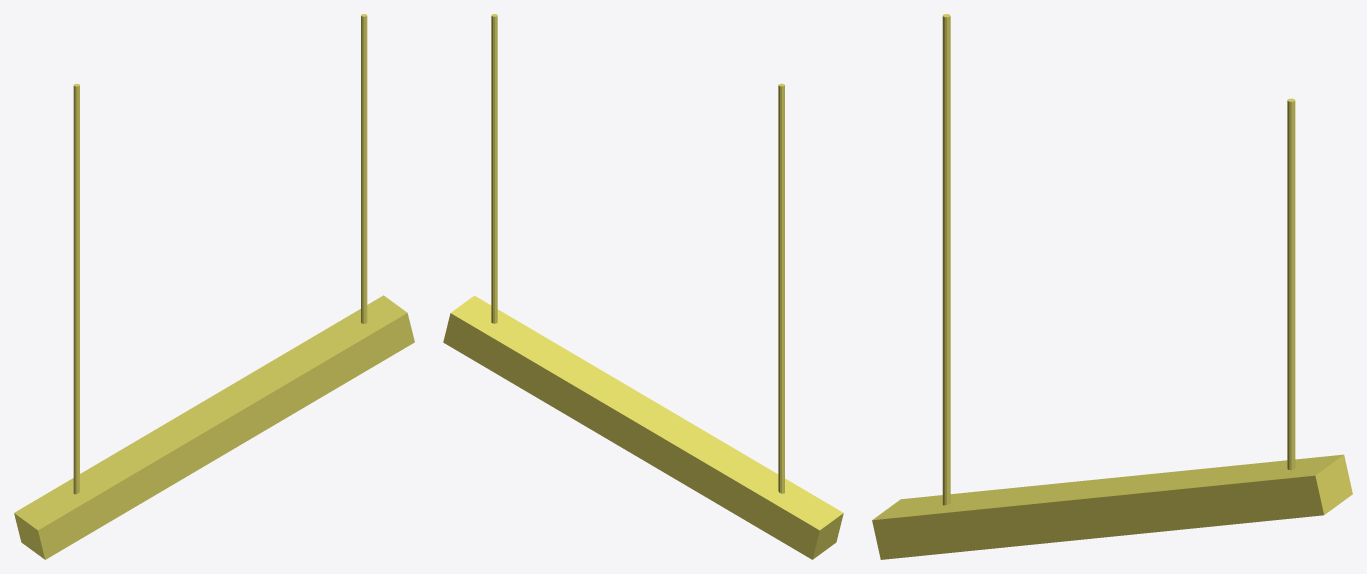
The model's file is Lamp3.fbx.
3 views of the same model, side by side, from view 1: azimuth 30°, elevation 25°; view 2: azimuth 150°, elevation 25°; view 3: azimuth 330°, elevation 25° (orthographic). The views are drawn at different scales.
Parts seen in each view (by area): view 1: lamp3; view 2: lamp3; view 3: lamp3.
Part boxes in pixels (<box>): lamp3: <box>14,14,414,559</box>; lamp3: <box>443,14,843,559</box>; lamp3: <box>872,14,1352,559</box>.
Size of the model in its own units: 198 by 229 by 21.83.
